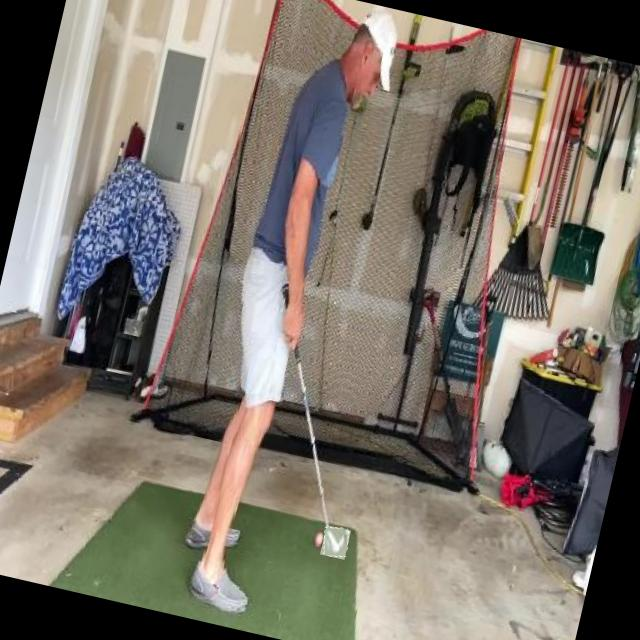club head: (320, 524, 350, 560)
